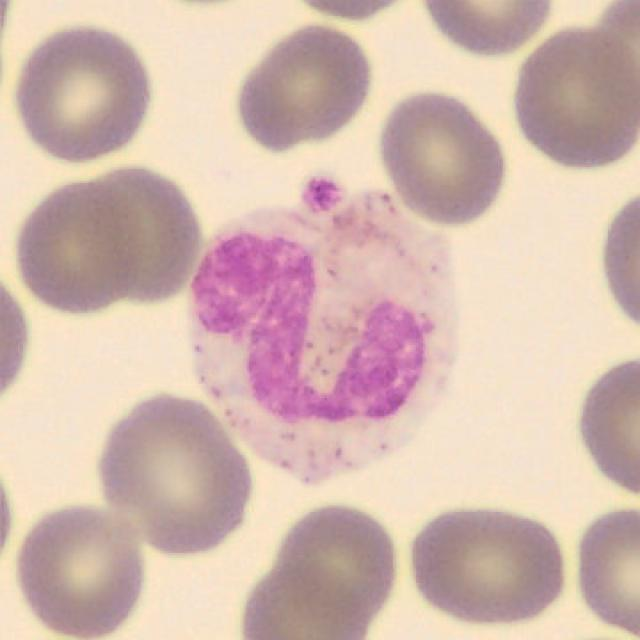Neutrofilo segmentado: (184, 183, 461, 485)
